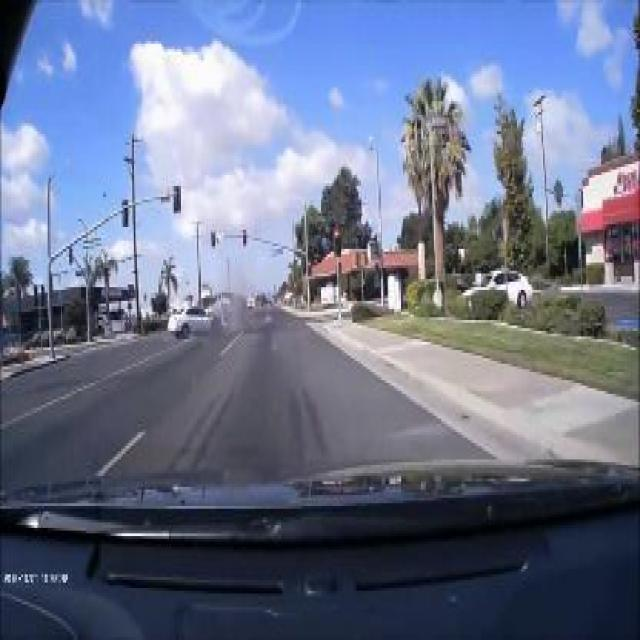accident: (164, 288, 239, 336)
